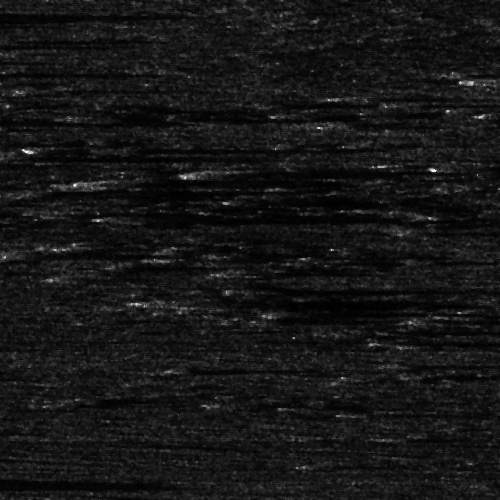object: (15, 109, 182, 124), (95, 172, 178, 187), (170, 166, 275, 177), (344, 338, 437, 347), (381, 313, 454, 324), (453, 104, 500, 121), (0, 185, 80, 194), (83, 212, 156, 221), (261, 308, 314, 317), (0, 110, 24, 129), (436, 75, 500, 82), (0, 152, 47, 159), (7, 86, 60, 91), (99, 145, 140, 150), (148, 298, 189, 303), (154, 367, 195, 370)
shadow: (98, 109, 401, 124), (0, 110, 226, 129), (136, 172, 391, 187), (120, 212, 500, 221), (222, 166, 500, 177), (34, 185, 279, 194), (288, 308, 499, 317), (1, 152, 241, 159), (168, 298, 472, 303), (0, 475, 103, 488), (120, 145, 370, 150), (0, 68, 119, 77), (391, 338, 500, 347), (418, 313, 500, 324), (33, 86, 181, 91), (0, 54, 52, 63), (175, 367, 330, 370)
